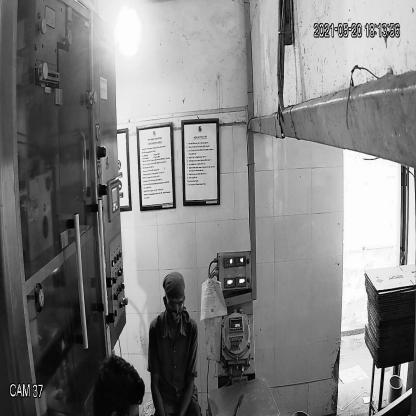goggles: (163, 291, 186, 313)
